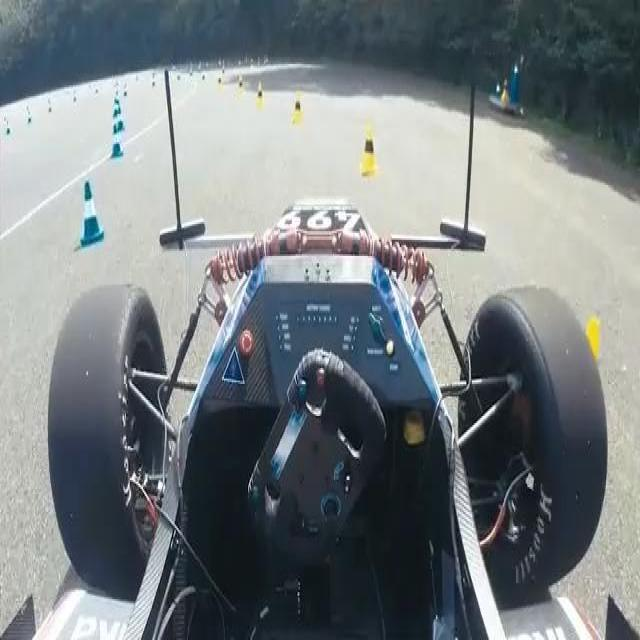blue_cone: (80, 179, 103, 247), (110, 126, 124, 161), (110, 114, 121, 144), (113, 103, 124, 130), (115, 94, 123, 116), (5, 121, 10, 137), (27, 110, 32, 126), (48, 100, 53, 114)
yellow_cone: (553, 295, 607, 545), (359, 125, 379, 177), (292, 90, 302, 122), (255, 84, 265, 108), (237, 74, 246, 100), (217, 78, 223, 95), (4, 114, 9, 129), (25, 103, 30, 118)
